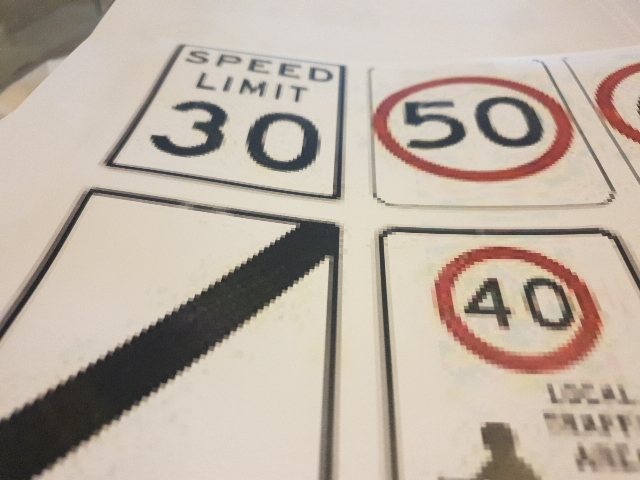sp30: (152, 94, 324, 175)
sp40: (426, 245, 615, 369)
sp50: (375, 79, 583, 179)
